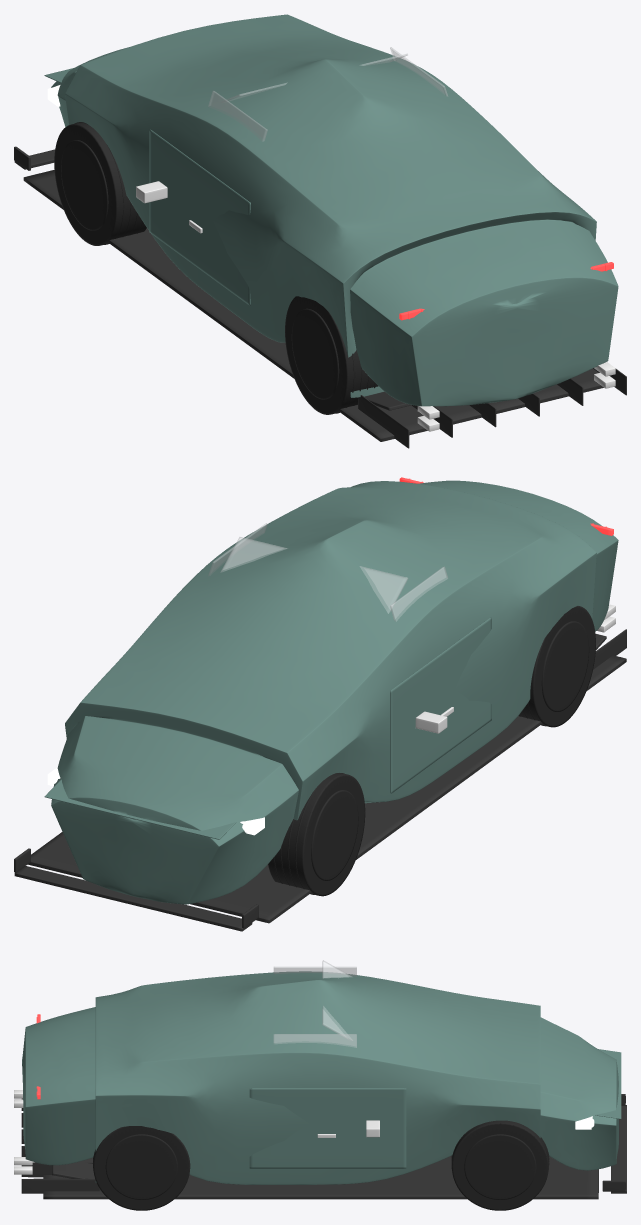
Rendered from vehicle.opt.glb.
The picture shows the model from 3 angles, top to bottom: view 1: azimuth 30°, elevation 25°; view 2: azimuth 150°, elevation 25°; view 3: azimuth 270°, elevation 25°; orthographic projection. The views are drawn at different scales.
Visible parts, largest first — view 1: BODY_MainShell, UNDERBODY_FlatFloor, BODY_Door_FL, WHEEL_FL_Tire, WHEEL_RL_Tire, GLASS_Greenhouse, JEWELRY_XM_StackedExhaust, JEWELRY_Hardware, AERO_FrontSplitter; view 2: BODY_MainShell, UNDERBODY_FlatFloor, BODY_Door_FL, WHEEL_FL_Tire, WHEEL_RL_Tire, AERO_FrontSplitter, GLASS_Greenhouse, BODY_Hood, JEWELRY_Hardware; view 3: BODY_MainShell, BODY_Door_FR, UNDERBODY_FlatFloor, WHEEL_FR_Tire, WHEEL_RR_Tire, GLASS_Greenhouse, AERO_FrontSplitter, BODY_Hood, JEWELRY_XM_StackedExhaust.
Boxes of the visible parts, <box> form: BODY_MainShell: <box>51,14,618,406</box>; UNDERBODY_FlatFloor: <box>23,169,626,448</box>; BODY_Door_FL: <box>149,129,250,305</box>; WHEEL_FL_Tire: <box>54,122,146,245</box>; WHEEL_RL_Tire: <box>285,296,378,414</box>; GLASS_Greenhouse: <box>208,47,447,141</box>; JEWELRY_XM_StackedExhaust: <box>417,362,615,431</box>; JEWELRY_Hardware: <box>136,181,202,233</box>; AERO_FrontSplitter: <box>14,146,55,170</box>; BODY_MainShell: <box>51,480,618,904</box>; UNDERBODY_FlatFloor: <box>28,629,626,923</box>; BODY_Door_FL: <box>390,617,491,793</box>; WHEEL_FL_Tire: <box>268,773,365,896</box>; WHEEL_RL_Tire: <box>518,606,595,727</box>; AERO_FrontSplitter: <box>14,848,258,931</box>; GLASS_Greenhouse: <box>208,523,447,621</box>; BODY_Hood: <box>44,779,236,839</box>; JEWELRY_Hardware: <box>415,707,453,733</box>; BODY_MainShell: <box>22,971,618,1184</box>; BODY_Door_FR: <box>249,1088,406,1168</box>; UNDERBODY_FlatFloor: <box>21,1098,598,1199</box>; WHEEL_FR_Tire: <box>451,1120,549,1210</box>; WHEEL_RR_Tire: <box>93,1126,190,1210</box>; GLASS_Greenhouse: <box>273,960,356,1047</box>; AERO_FrontSplitter: <box>602,1094,626,1193</box>; BODY_Hood: <box>595,1049,621,1119</box>; JEWELRY_XM_StackedExhaust: <box>14,1090,32,1174</box>.
Size of what is drawn, in the model's own units: 2.35 by 1.76 by 5.3.
